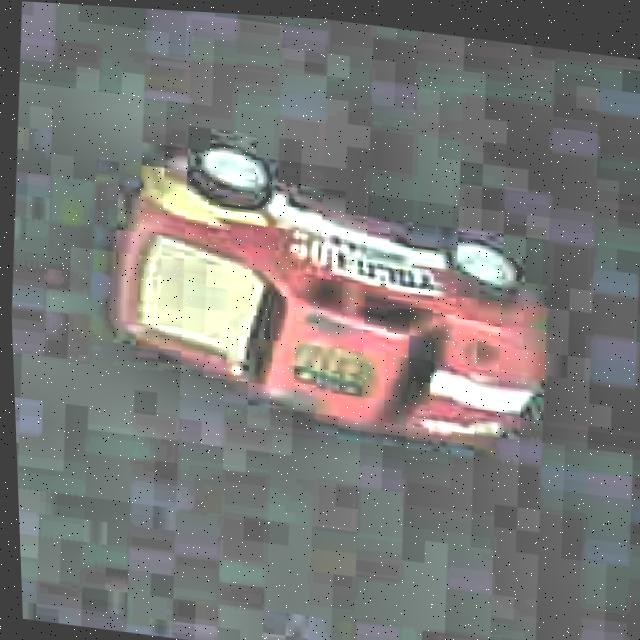car: (95, 125, 569, 464)
